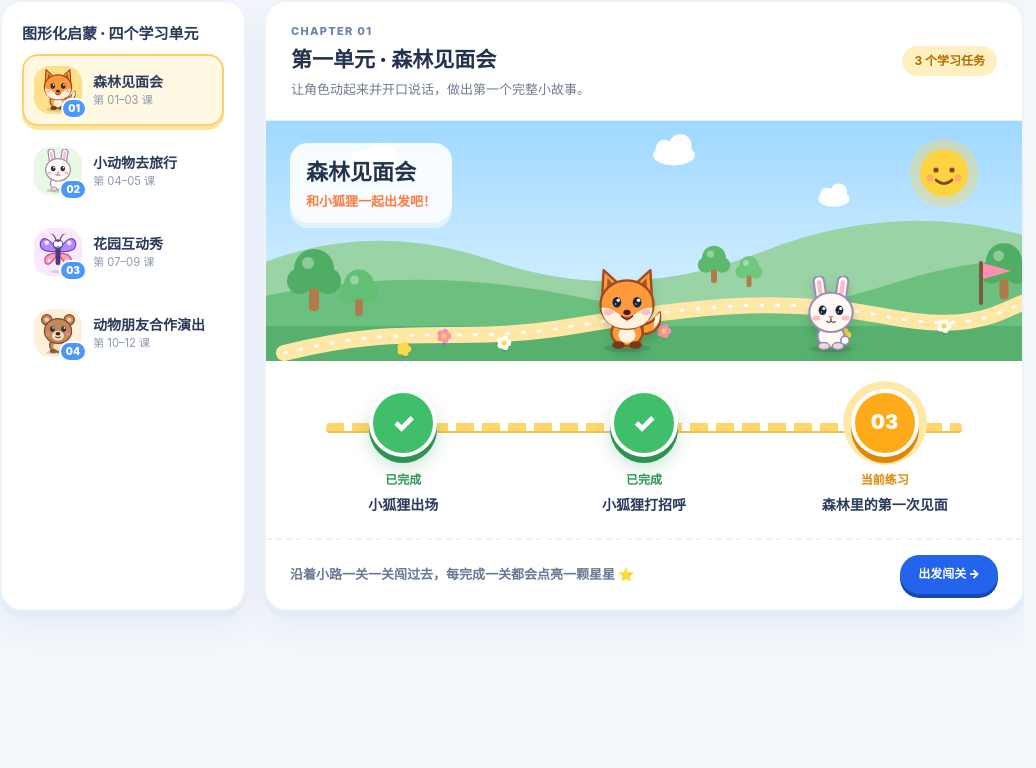
MapView › shows fewer real nodes and the real count when a lesson is missing
Click the button with test id "adventure-map-unit-unit-2-meadow-journey".
click(123, 171)  # box [22, 135, 224, 207]
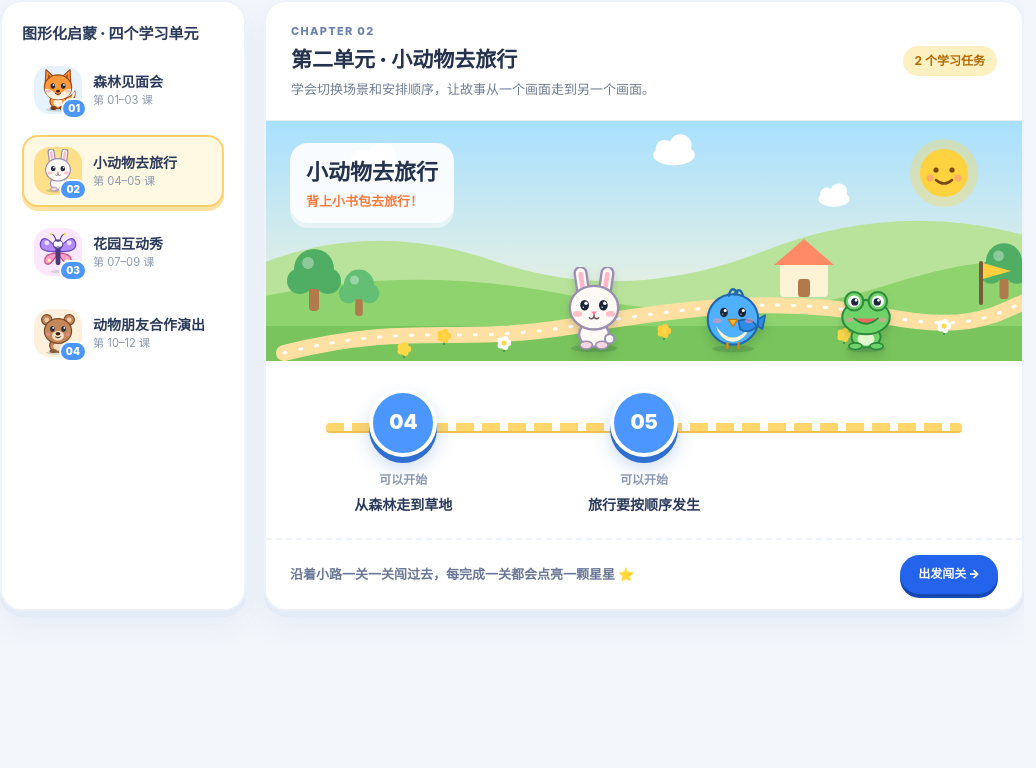
Expected: the text "第 04–05 课" is shown, [93, 174, 155, 188]
Now the text "2 个学习任务" is shown, box [903, 46, 997, 76]
